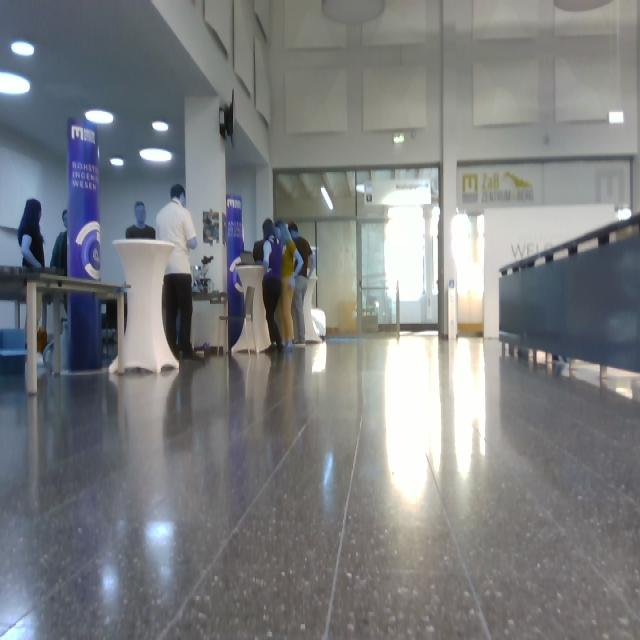door: (316, 218, 359, 336)
light bulb: (322, 1, 385, 25), (451, 213, 472, 266), (1, 72, 31, 96), (554, 1, 613, 12), (85, 109, 114, 125), (139, 148, 172, 162), (11, 41, 35, 57), (321, 185, 334, 210), (430, 207, 440, 239), (609, 110, 624, 125), (617, 208, 632, 221), (152, 121, 169, 132), (393, 133, 405, 144), (110, 157, 124, 166)
person: (156, 184, 205, 361), (18, 199, 48, 355), (275, 220, 305, 349), (288, 221, 315, 345), (262, 218, 284, 353)
pillar: (63, 117, 103, 374)
staircase: (498, 210, 640, 393)
tiled floor: (1, 331, 639, 639)
